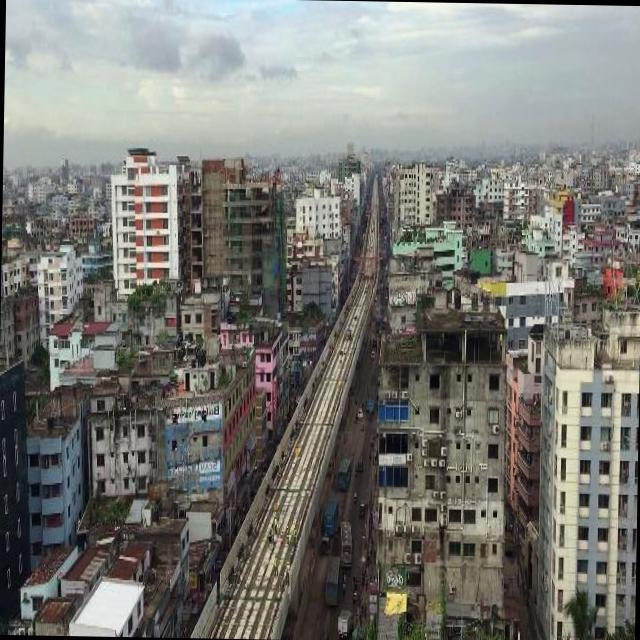bus: (325, 553, 341, 605), (324, 496, 339, 534), (340, 520, 352, 566), (339, 458, 353, 490), (366, 384, 376, 409), (376, 306, 380, 316)
car: (321, 533, 331, 551), (358, 406, 364, 416), (372, 348, 376, 357), (385, 314, 388, 321)
motorcycle: (358, 500, 364, 514), (358, 456, 364, 470), (368, 406, 374, 418), (353, 490, 357, 500), (362, 401, 366, 408), (356, 462, 358, 472)
truck: (337, 610, 352, 635), (376, 318, 381, 328)
